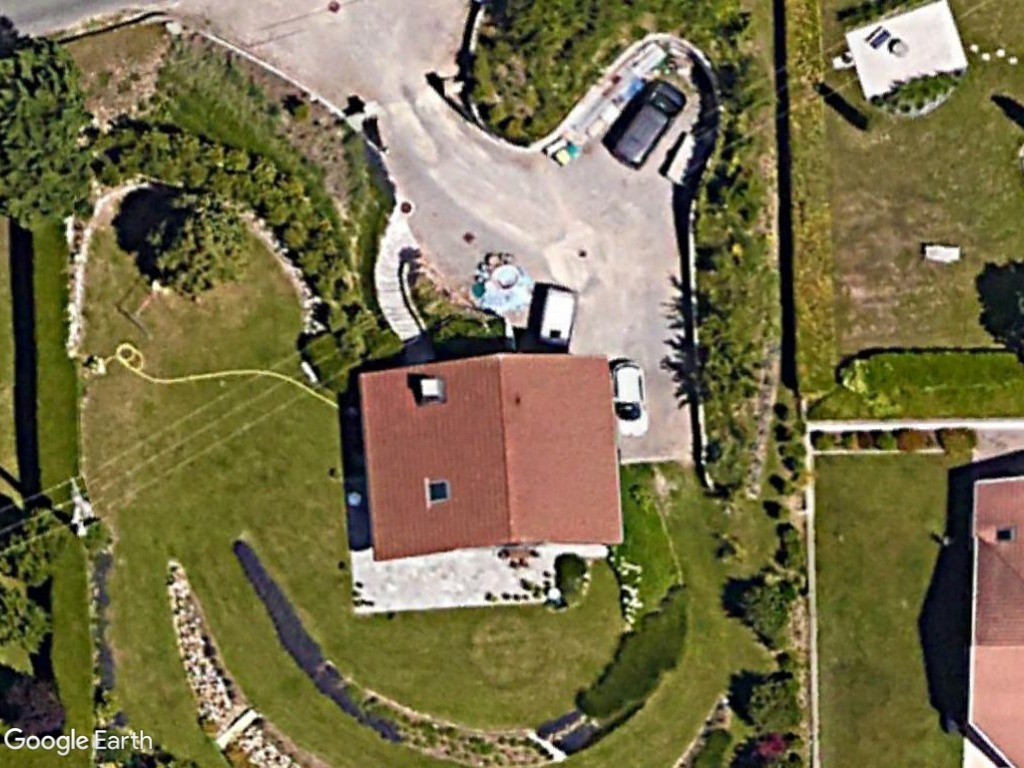car: (607, 354, 651, 439)
van: (608, 78, 687, 172)
